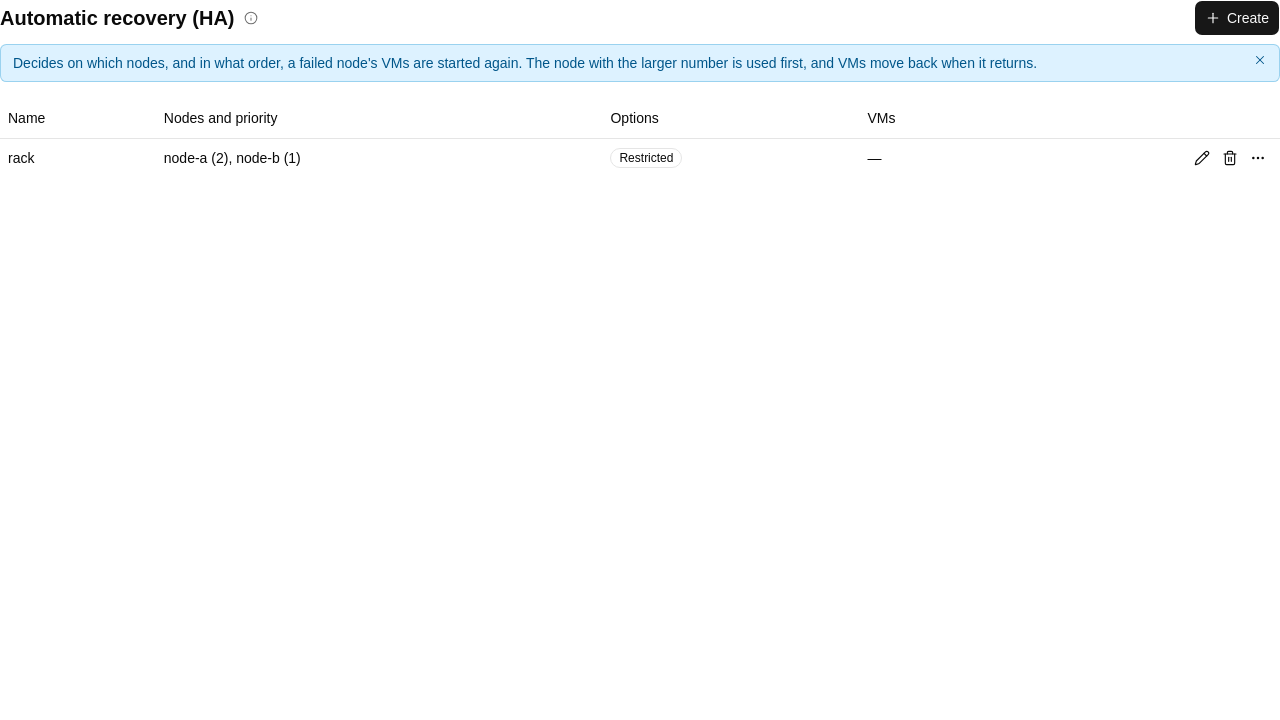
Test: replaces a group with its revision and keeps unchanged groups from saving
Click the button named "Edit HA group rack". click: {"x": 1202, "y": 158}
box: [1188,144,1216,172]
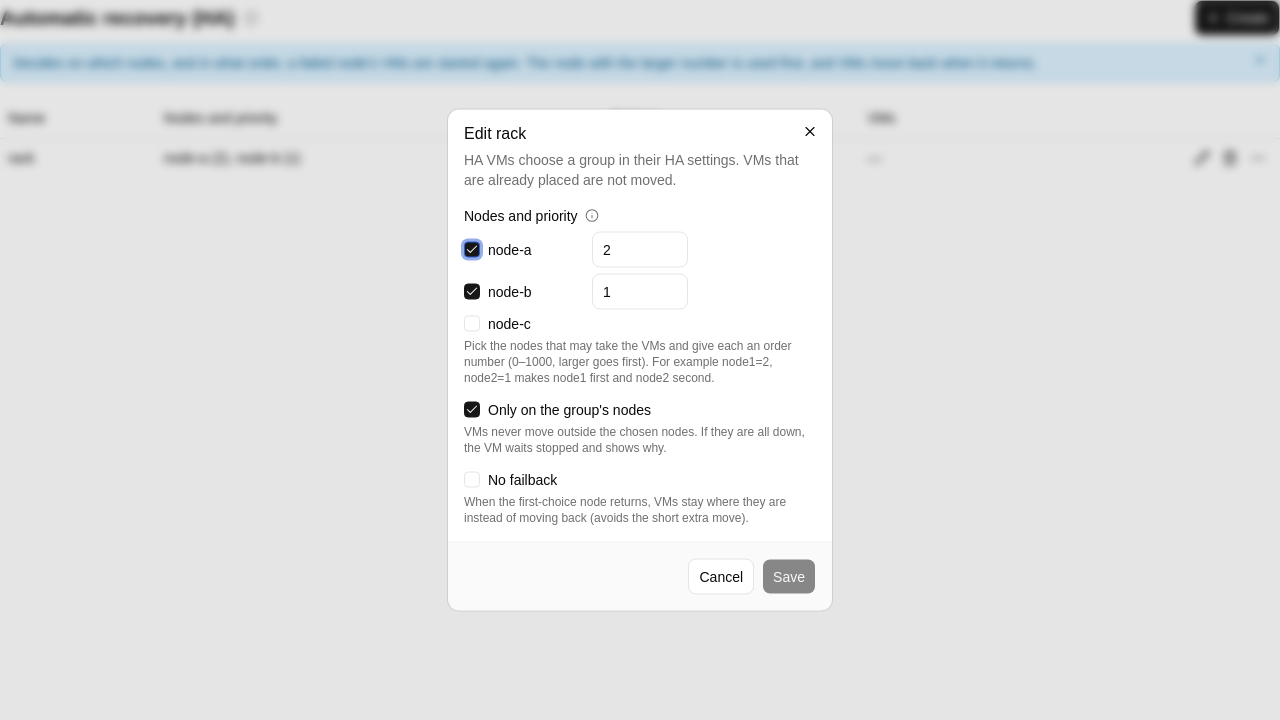
Expected: the 1st checkbox named "node-a" is checked, [464,242,480,258]
Expected: the field named "Priority of node-a" holds "2", [592,232,688,268]
Expected: the button "Save" is disabled, [762,558,816,594]
Click the checkbox named "No failback" next to "No failback". click: {"x": 472, "y": 480}
box: [464,472,480,488]
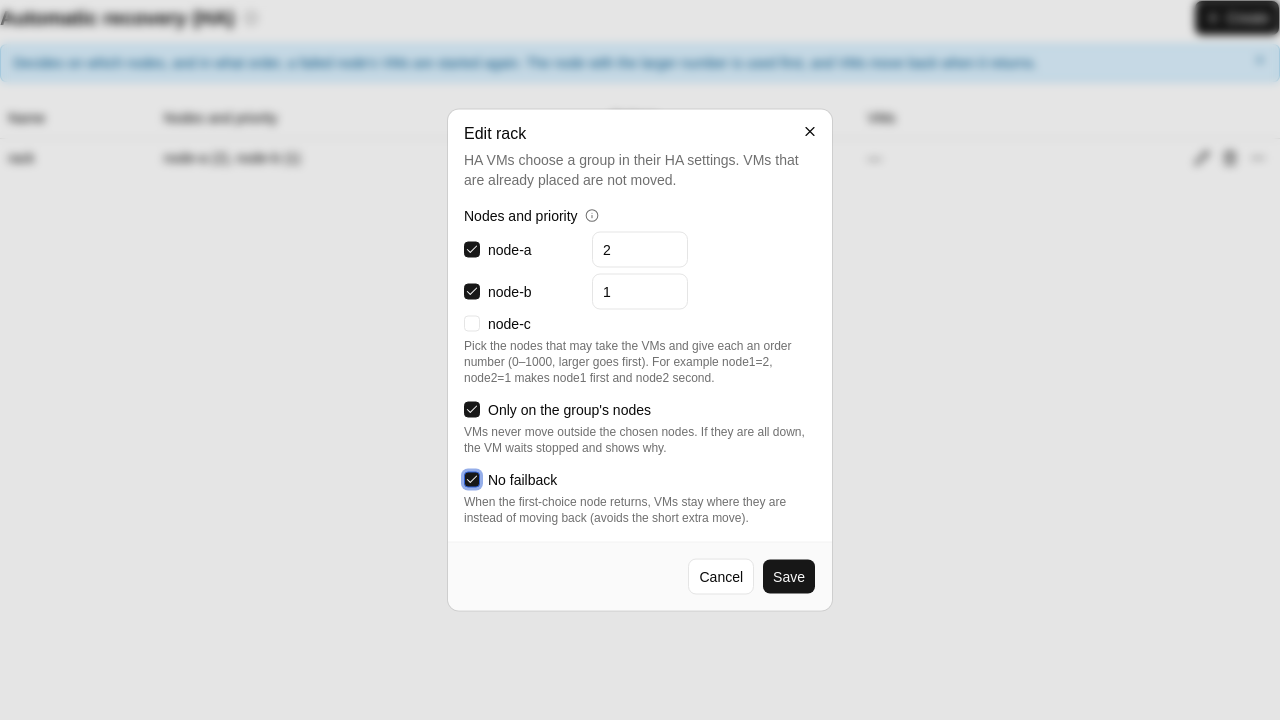
Click the 2nd checkbox named "node-b". click: {"x": 472, "y": 292}
box: [464,284,480,300]
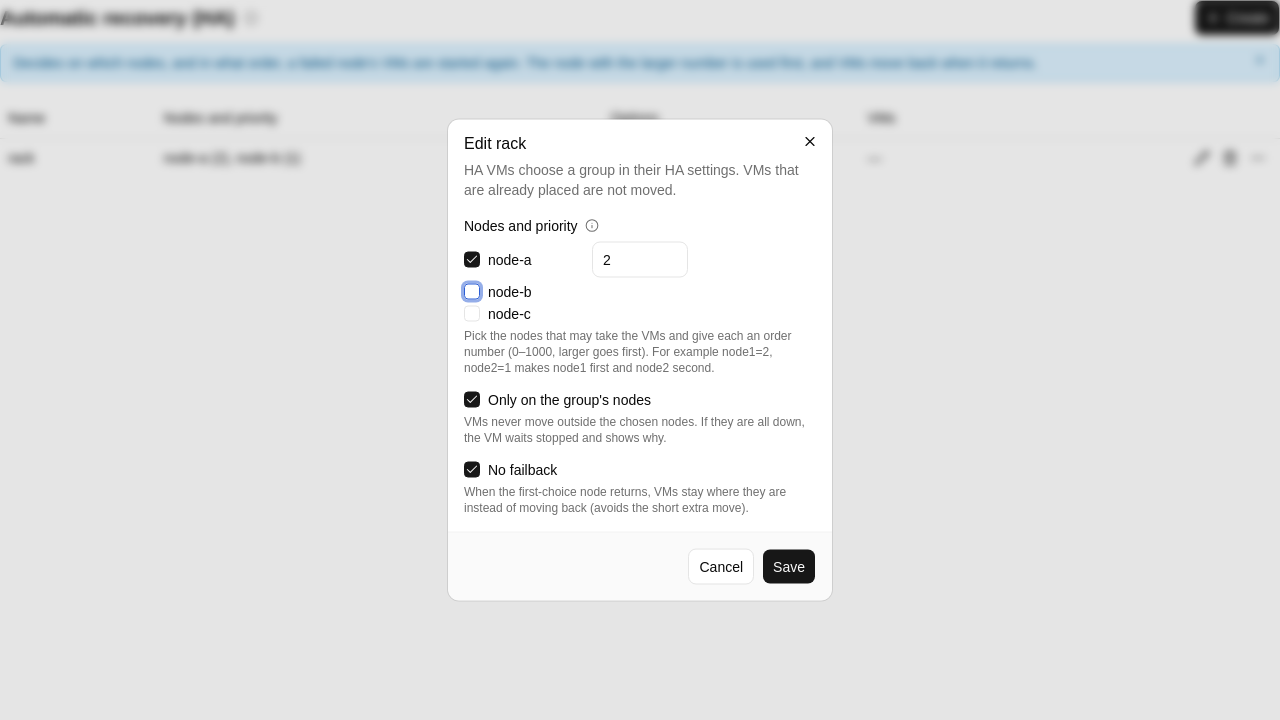
Click the button "Save". click: {"x": 789, "y": 566}
box: [762,548,816,584]
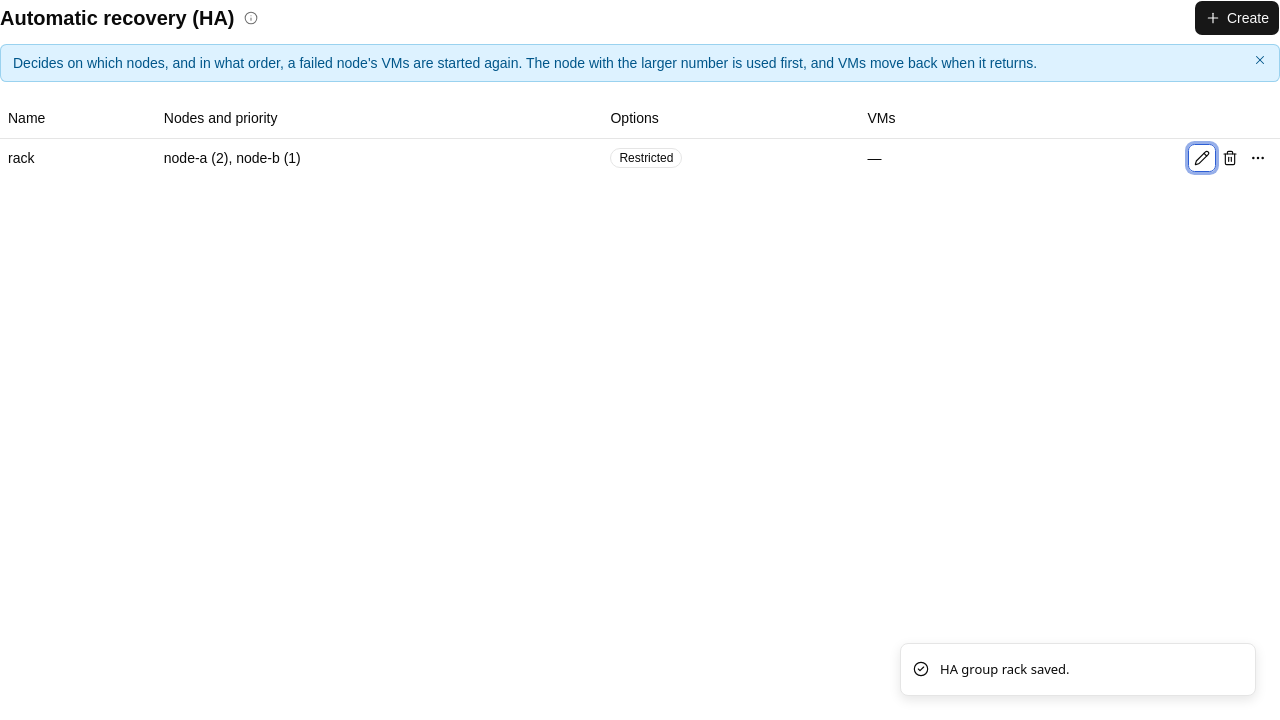
Expected: the text "HA group rack saved." is shown, [940,660,1070,679]
